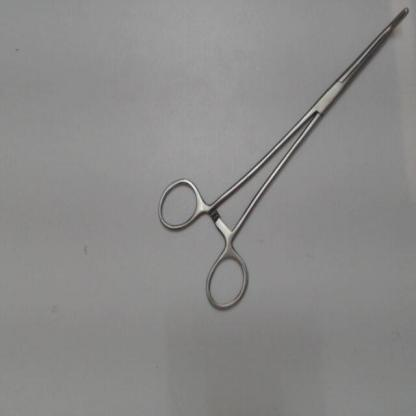Lahey Forceps: (152, 2, 413, 322)
